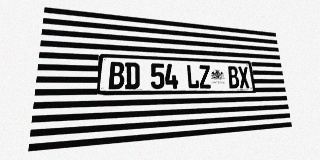4: (164, 64, 178, 89)
5: (151, 63, 165, 89)
B: (108, 62, 124, 89), (227, 66, 240, 88)
D: (125, 62, 140, 89)
L: (186, 64, 200, 89)
X: (238, 66, 250, 88)
Z: (198, 65, 212, 89)
